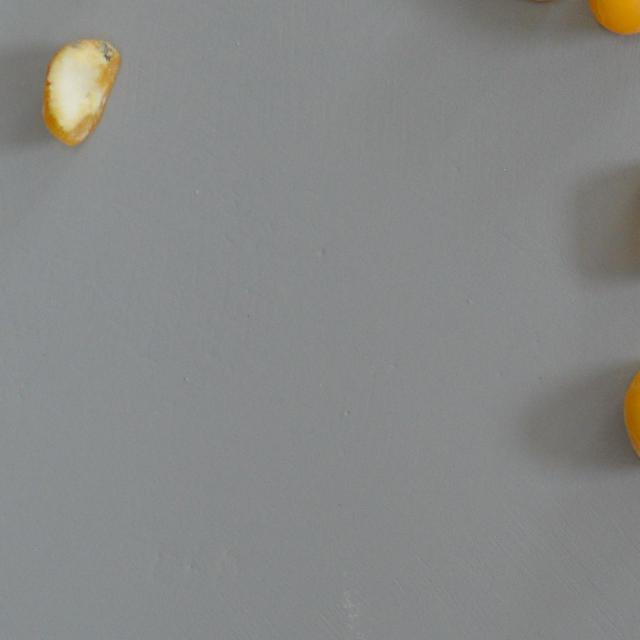dañado: (40, 37, 120, 148)
no_canjicado: (586, 0, 640, 36)
pelicula: (620, 356, 640, 470)
